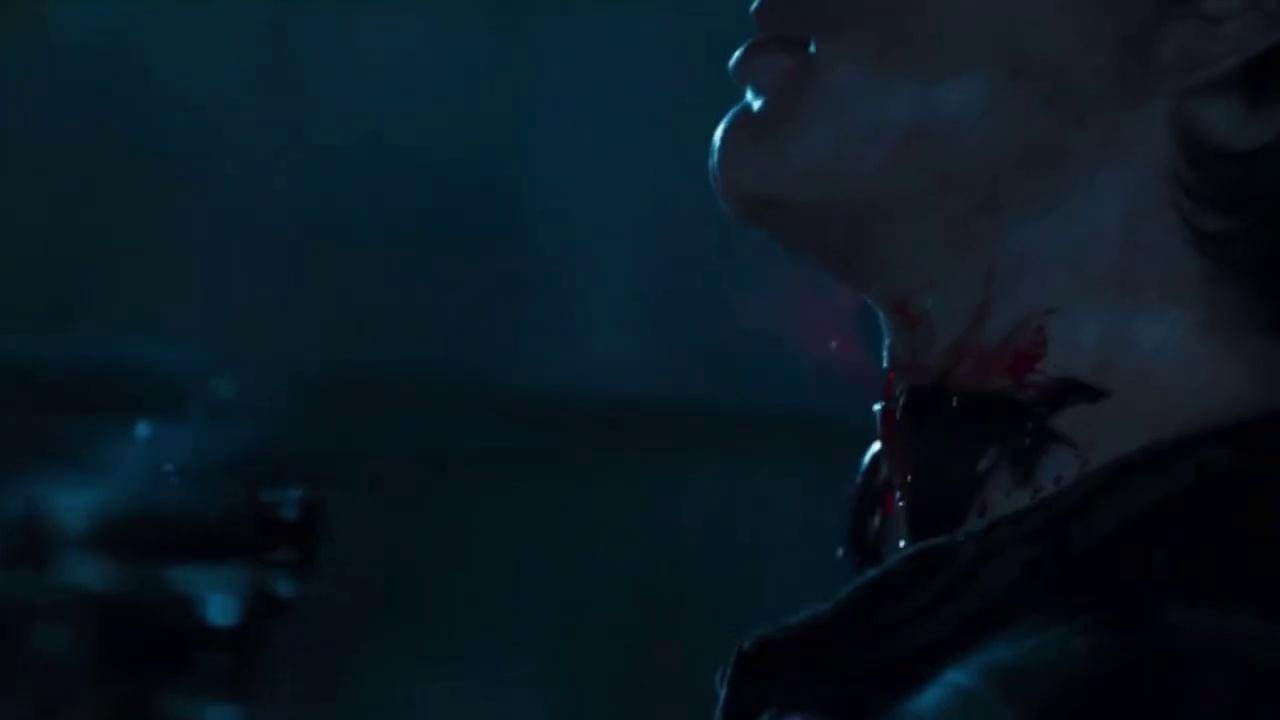Fire: (848, 264, 1108, 570)
